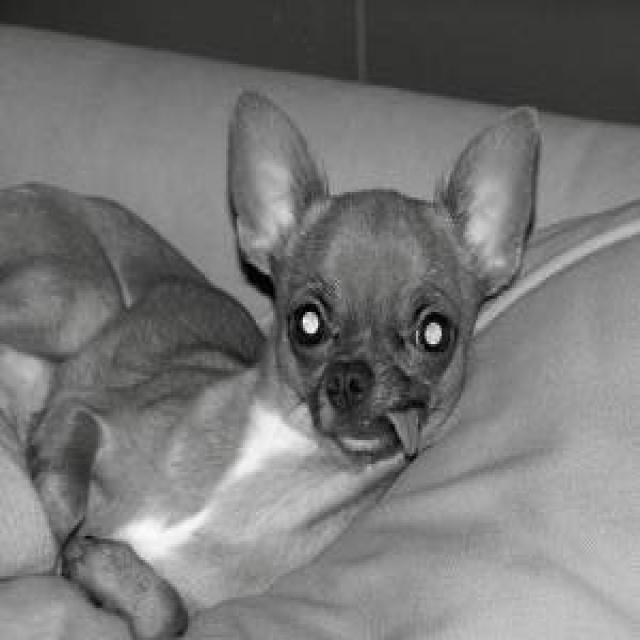dog-chihuahua: (2, 80, 548, 635)
